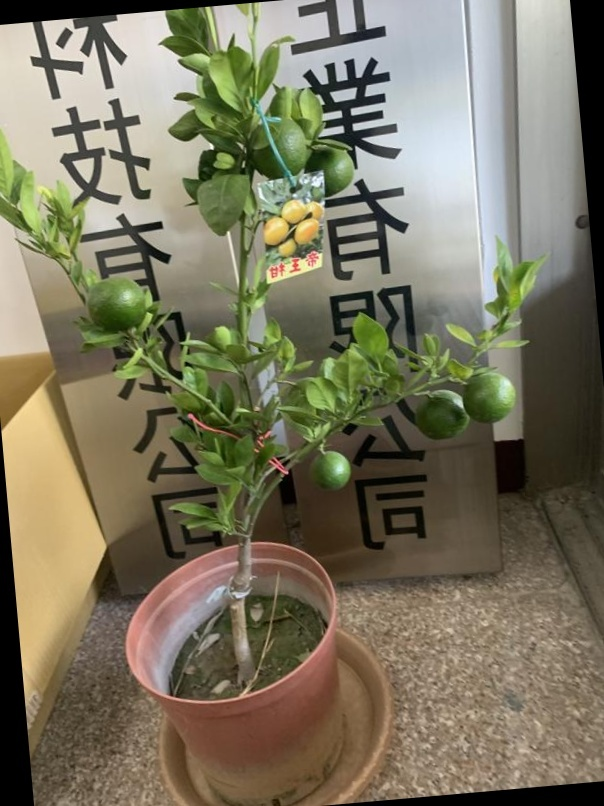Tangerine: (463, 368, 519, 425), (85, 278, 145, 331), (415, 390, 470, 441), (310, 450, 351, 491)
